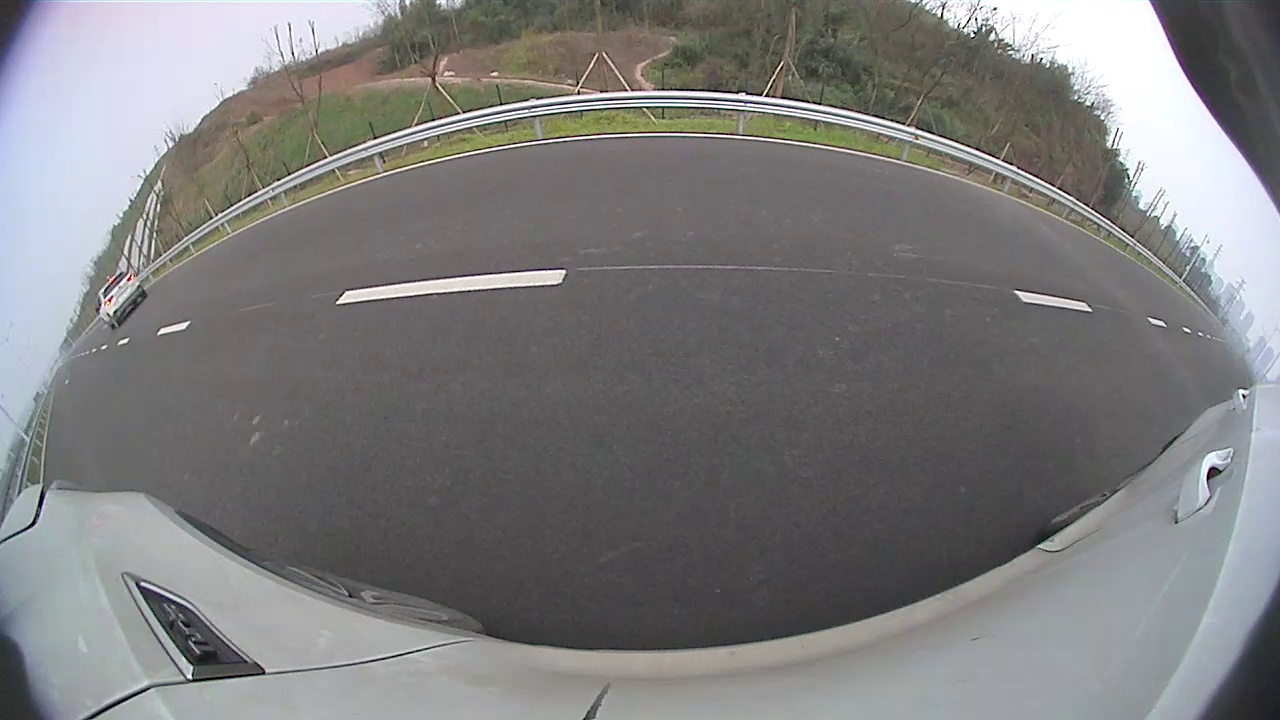car: (725, 147, 815, 204)
front: (727, 174, 736, 194)
rear: (749, 177, 760, 199)
